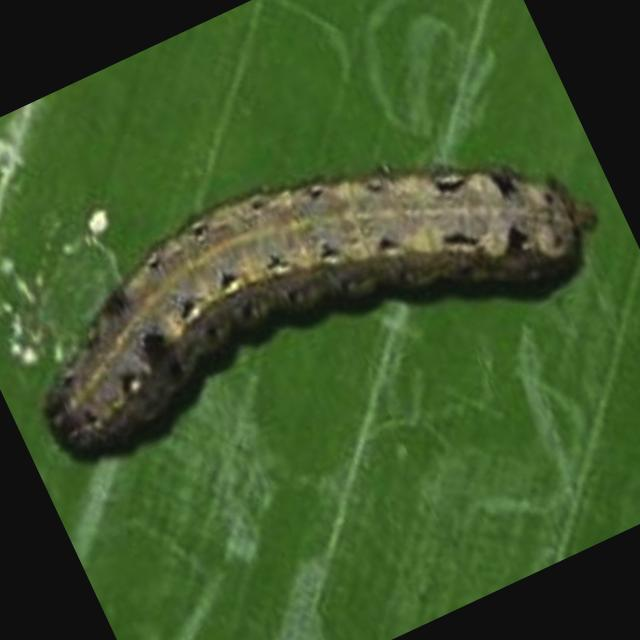Tobacco cutworm: (0, 23, 640, 595)
